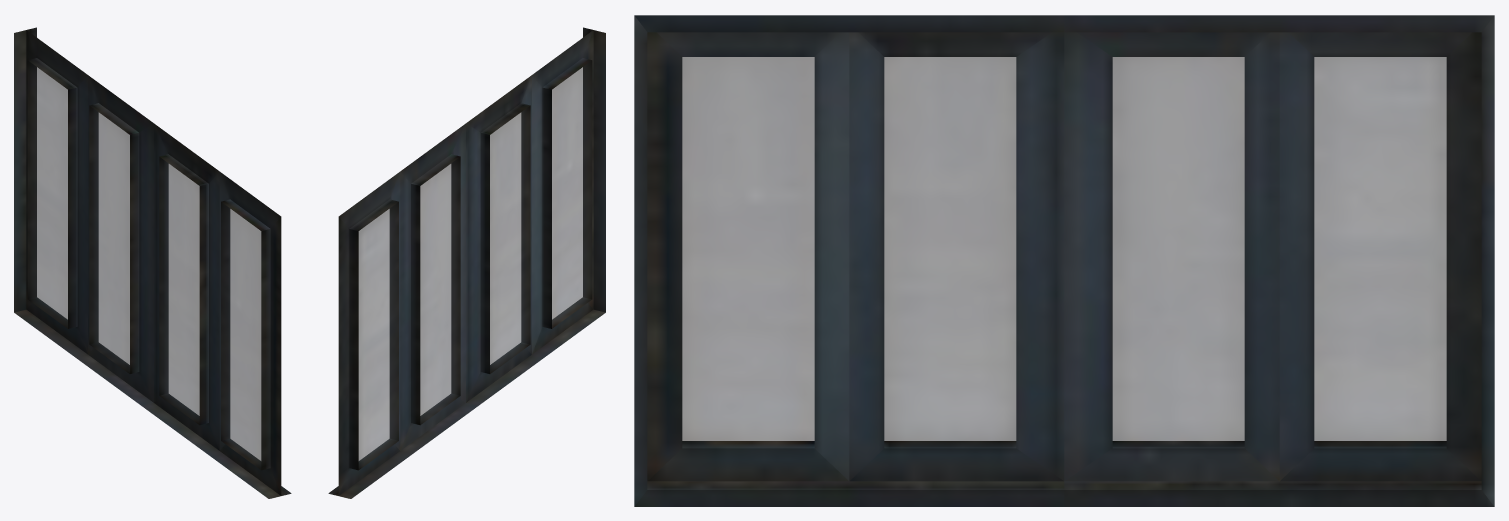
The model's file is LongWindows.FBX.
The picture shows the model from 3 angles, left to right: view 1: azimuth 30°, elevation 25°; view 2: azimuth 150°, elevation 25°; view 3: azimuth 270°, elevation 25°; orthographic projection. The views are drawn at different scales.
Visible parts, largest first — view 1: LongWindows; view 2: LongWindows; view 3: LongWindows.
Part boxes in pixels (<box>): LongWindows: <box>14,27,291,498</box>; LongWindows: <box>328,27,605,498</box>; LongWindows: <box>634,15,1494,506</box>.
Size of the model in its own units: 13.82 by 173 by 274.
2 materials, 2 textured.
